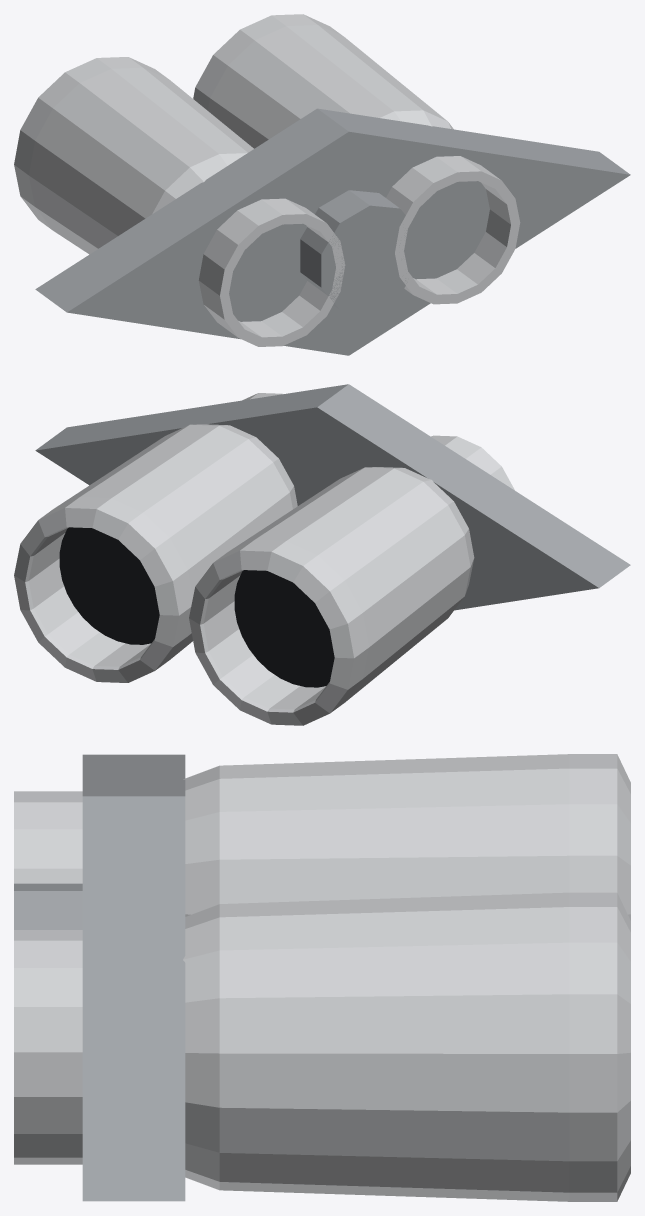
The model's file is streetline_76.glb.
3 views of the same model, one above another, from view 1: azimuth 30°, elevation 25°; view 2: azimuth 150°, elevation 25°; view 3: azimuth 270°, elevation 25° (orthographic). The views are drawn at different scales.
Visible parts, largest first — view 1: model; view 2: model; view 3: model.
Boxes of the visible parts, x1=… form: model: x1=14, y1=14, x2=630, y2=355; model: x1=14, y1=384, x2=630, y2=725; model: x1=14, y1=754, x2=630, y2=1201.
Size of the model in its own units: 0.3082 by 0.117 by 0.18.
3 materials, 1 textured.
